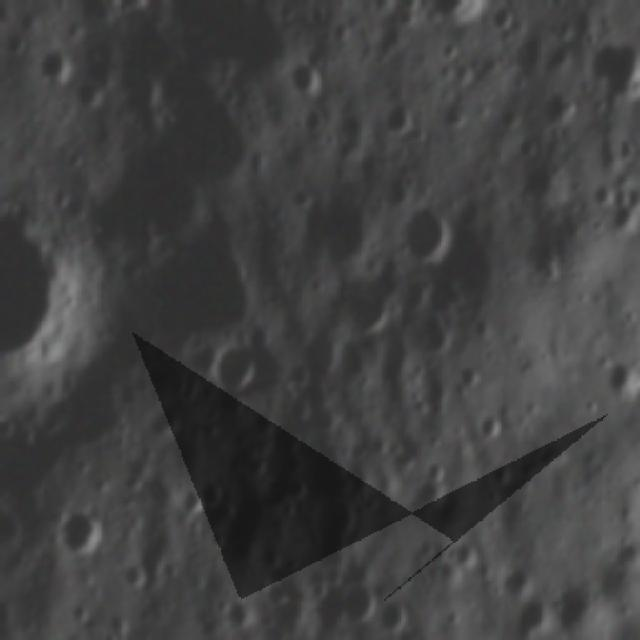crater: (0, 186, 95, 398), (306, 202, 380, 266), (398, 198, 459, 270), (342, 274, 408, 337), (586, 31, 634, 97), (556, 583, 607, 640), (53, 504, 105, 559), (335, 576, 379, 630), (214, 344, 258, 396), (267, 472, 310, 520), (503, 600, 552, 640), (606, 352, 640, 406), (303, 332, 340, 381), (35, 39, 70, 84), (288, 56, 327, 96), (318, 498, 357, 538), (151, 401, 186, 444), (381, 98, 416, 139), (534, 243, 568, 283), (466, 410, 505, 444), (495, 562, 531, 598), (486, 0, 518, 38), (96, 0, 153, 20), (541, 89, 577, 120), (122, 554, 149, 592), (378, 599, 409, 630), (483, 457, 514, 488), (495, 102, 527, 132), (298, 107, 330, 136), (438, 101, 470, 130), (227, 588, 250, 628), (422, 452, 449, 486), (456, 360, 484, 392), (449, 540, 478, 569), (516, 133, 546, 161), (572, 24, 602, 48), (314, 404, 337, 433), (363, 0, 402, 17), (396, 166, 421, 191), (202, 484, 228, 508), (609, 210, 636, 233), (592, 177, 614, 205), (617, 133, 637, 162), (184, 482, 201, 515), (575, 395, 600, 416), (612, 501, 633, 524), (124, 468, 144, 489), (146, 632, 171, 640)
